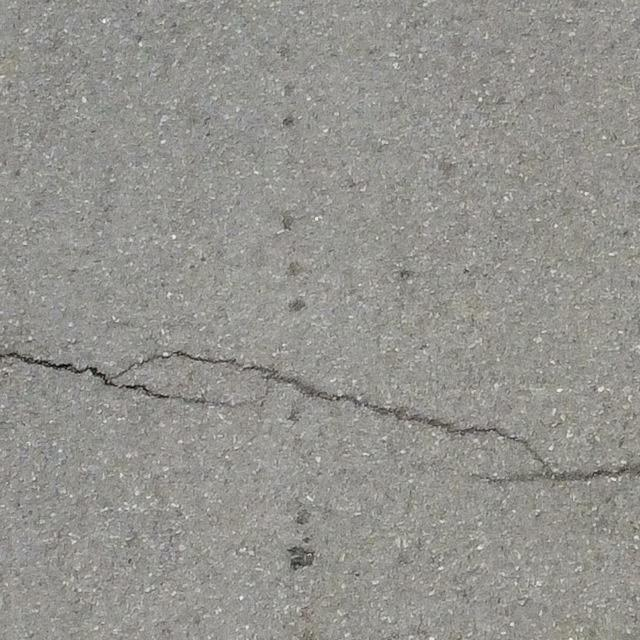TransverseCrack: (1, 348, 640, 481)
